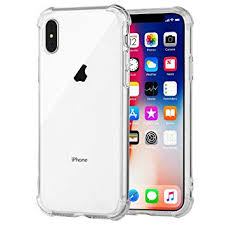iphone: (32, 2, 126, 216)
iphone10: (34, 4, 128, 218), (119, 2, 194, 217)
